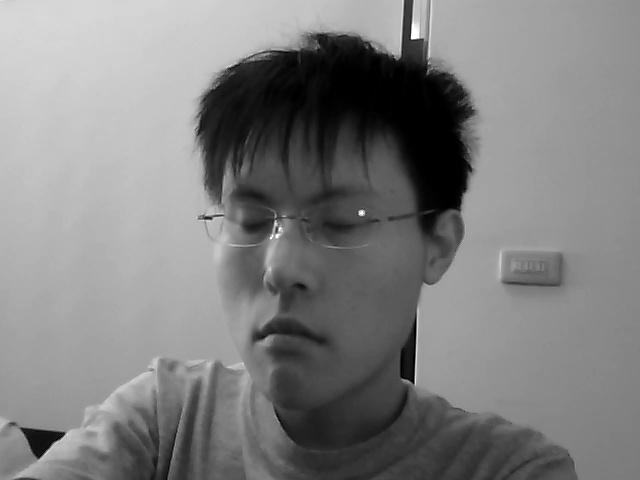eye_closed: (315, 204, 363, 244), (231, 210, 270, 241)
face: (214, 114, 425, 408)
